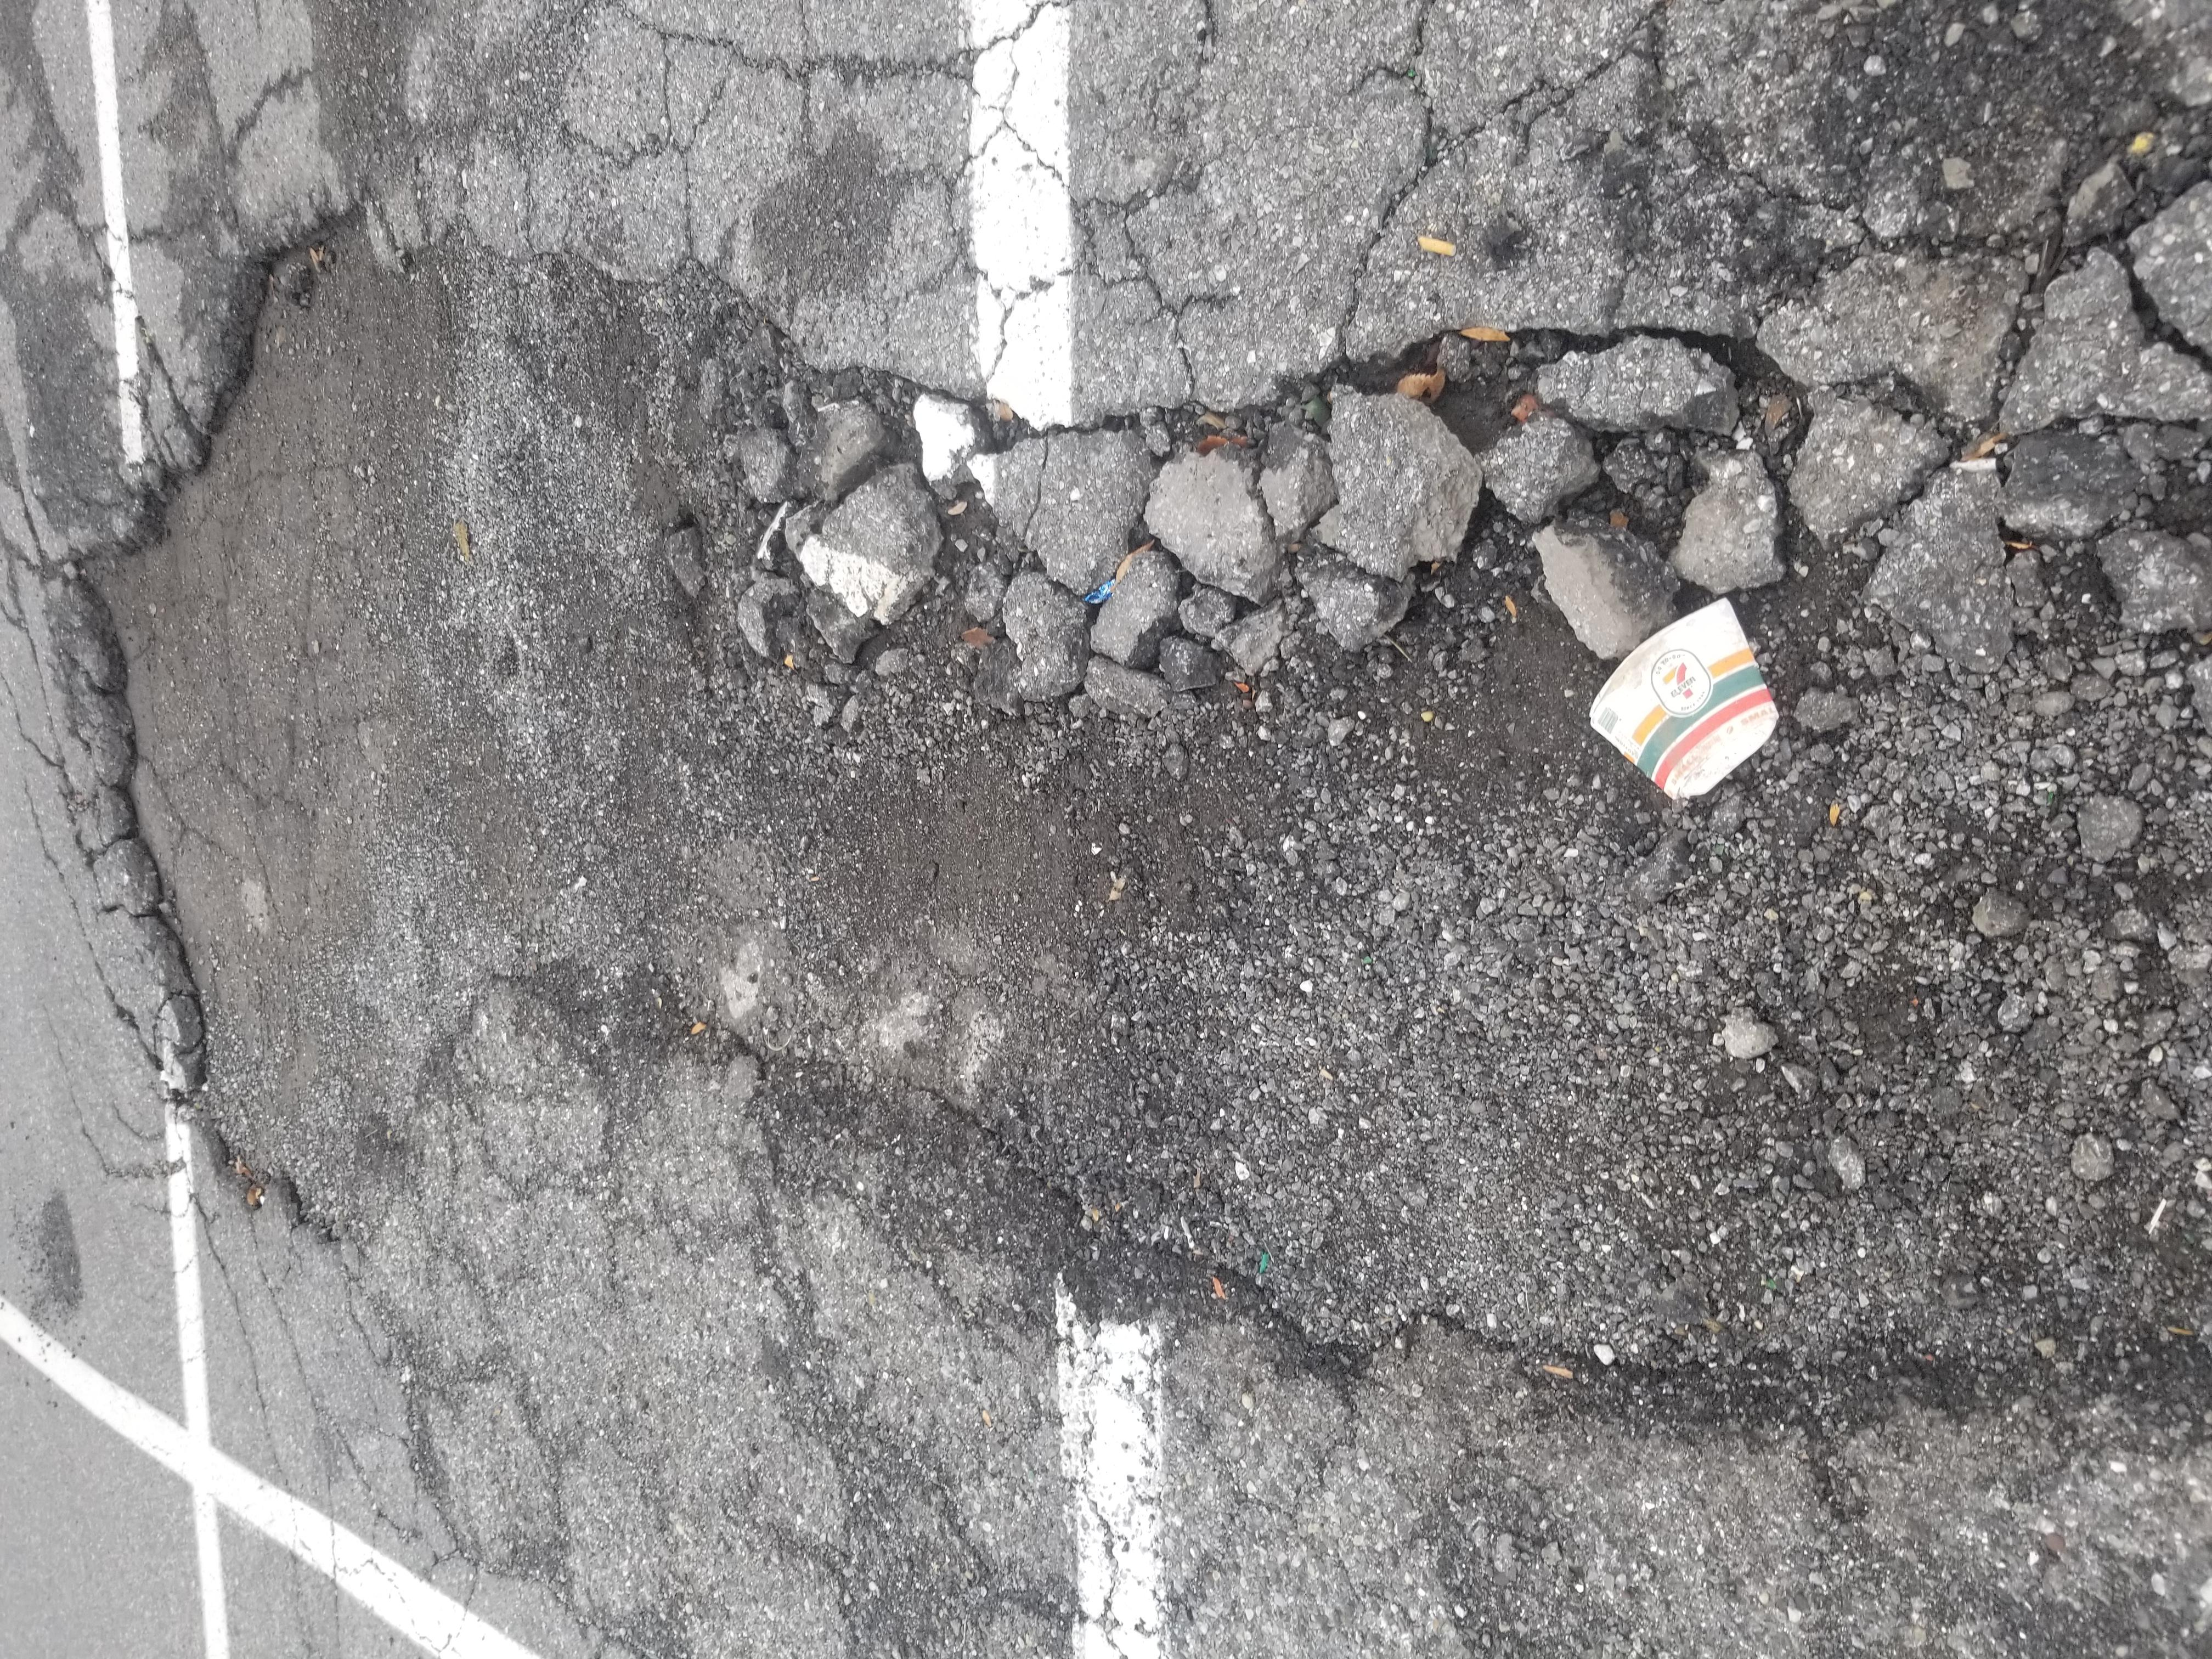pothole: (303, 28, 1986, 1659)
